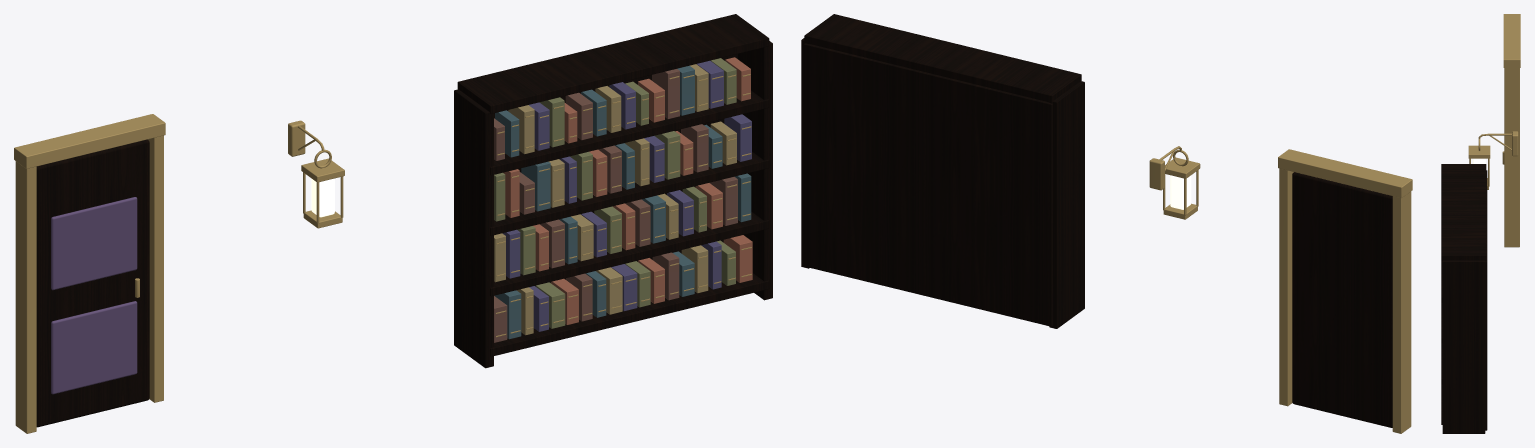
File: south.glb
3 views of the same model, side by side, from view 1: azimuth 30°, elevation 25°; view 2: azimuth 150°, elevation 25°; view 3: azimuth 270°, elevation 25° (orthographic). The views are drawn at different scales.
Parts seen in each view (by area): view 1: wizards-workshop south; view 2: wizards-workshop south; view 3: wizards-workshop south.
Part boxes in pixels (left/top/right/bottom): wizards-workshop south: left=14, top=14, right=772, bottom=433; wizards-workshop south: left=801, top=14, right=1412, bottom=433; wizards-workshop south: left=1441, top=14, right=1520, bottom=433.
Size of the model in its own units: 7.05 by 2.68 by 1.02.
Materials: 11 (1 with a texture image).
